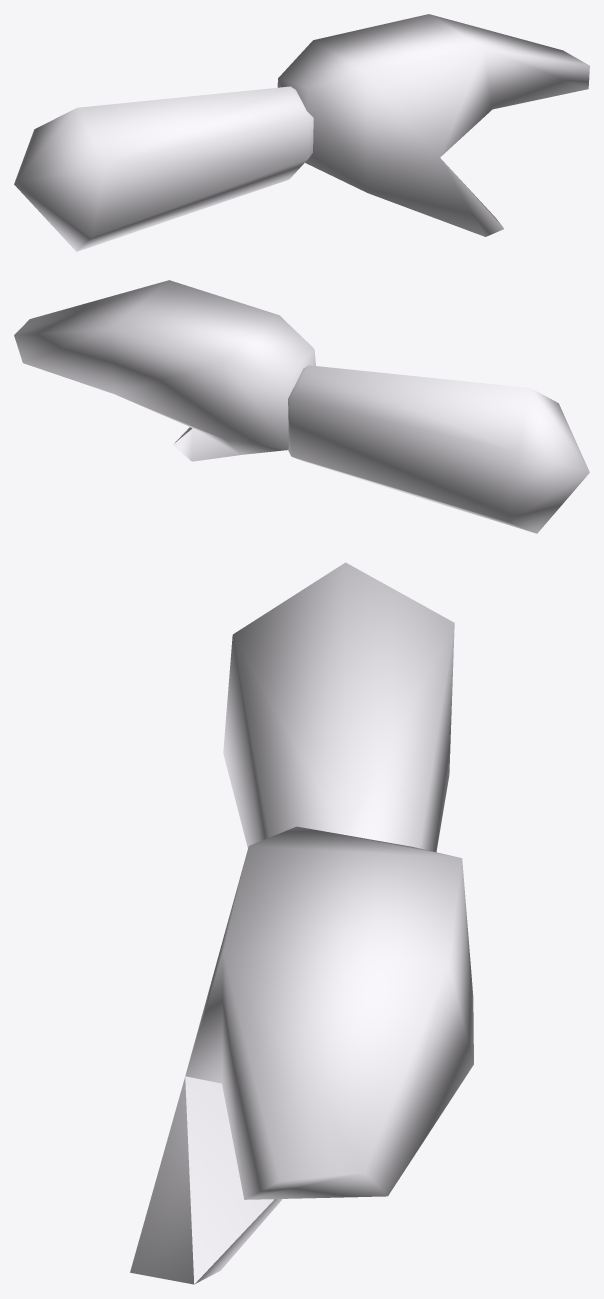
Rendered from PeachAnteBrazoI.obj.
3 renders of one model, top to bottom at view 1: azimuth 30°, elevation 25°; view 2: azimuth 150°, elevation 25°; view 3: azimuth 270°, elevation 25°, orthographic. The views are drawn at different scales.
Parts seen in each view (by area): view 1: PeachBrazoAnteI; view 2: PeachBrazoAnteI; view 3: PeachBrazoAnteI.
Part boxes in pixels (left/top/right/bottom): PeachBrazoAnteI: left=14, top=14, right=589, bottom=251; PeachBrazoAnteI: left=14, top=280, right=589, bottom=533; PeachBrazoAnteI: left=130, top=562, right=473, bottom=1284.
Bounding box in the file's own units: 0.4959 × 0.1537 × 0.1328.
